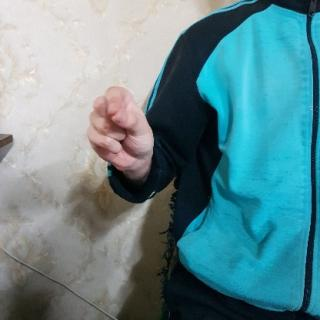FAA: (84, 81, 159, 183)
